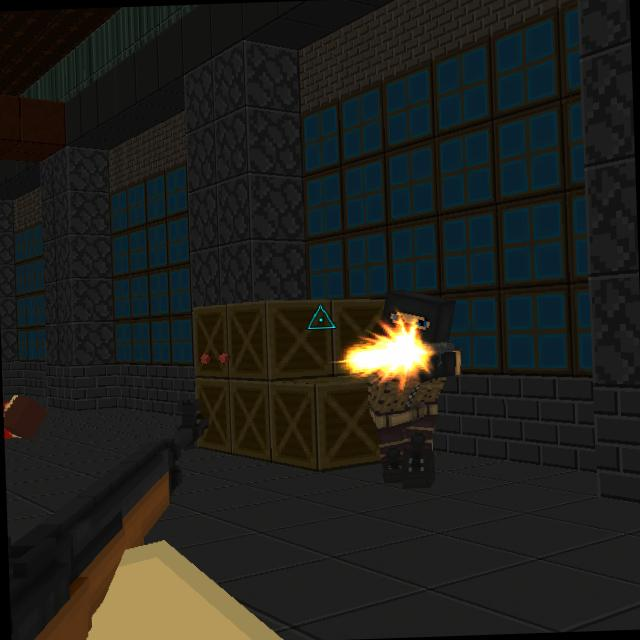enemy: (357, 280, 466, 498)
